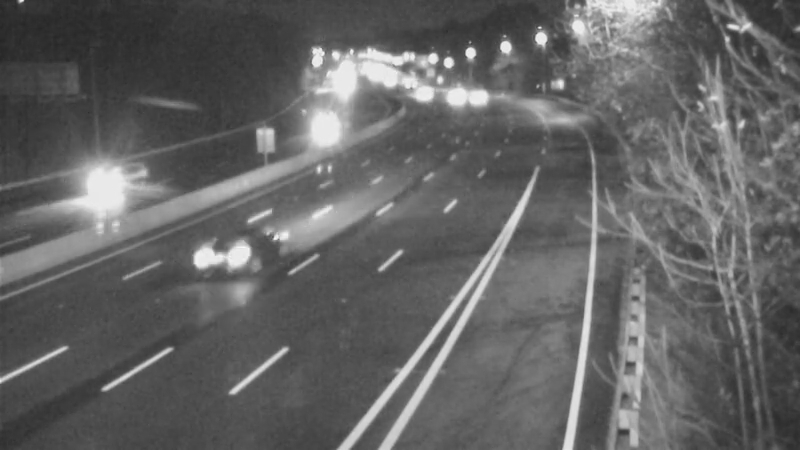vehicle: (182, 219, 262, 299), (60, 148, 140, 228), (427, 71, 477, 121), (444, 68, 494, 118), (301, 110, 351, 160)
